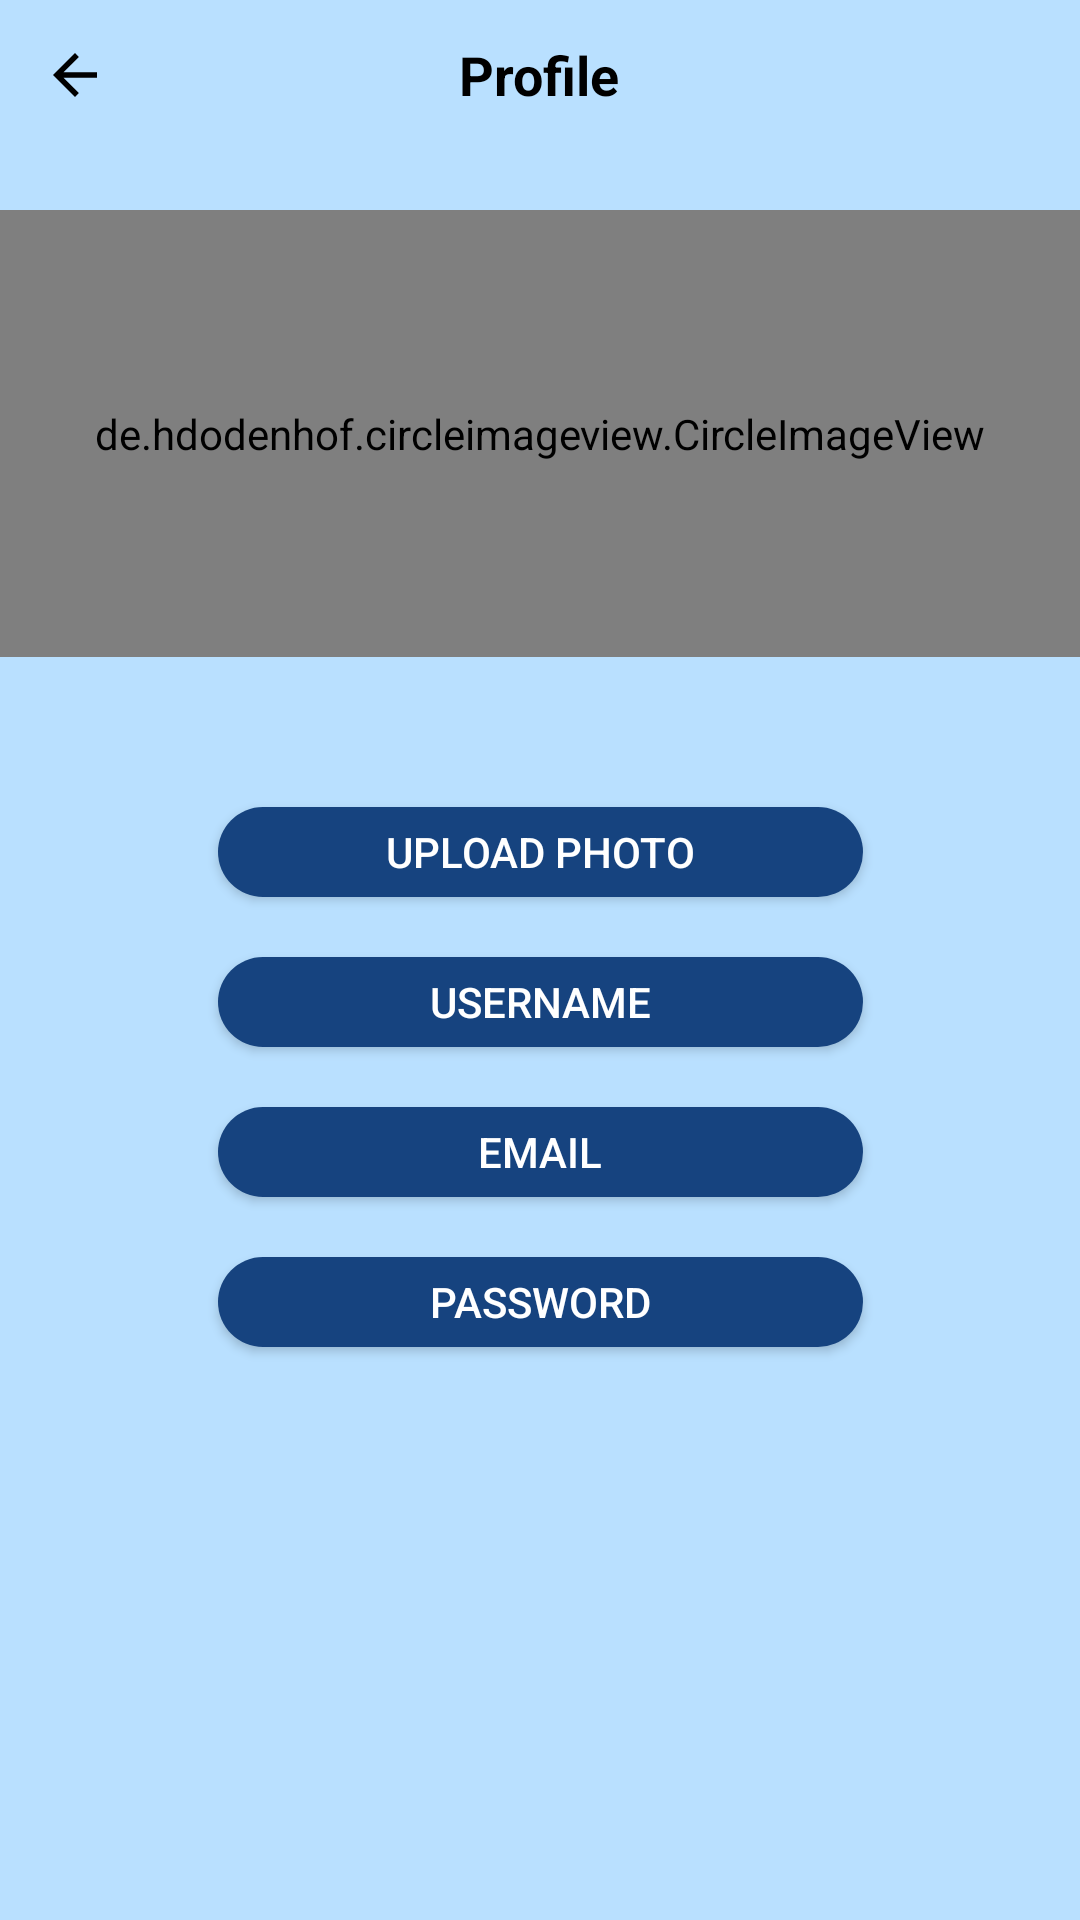

Icon click points for this 1080px×1920px phone screenshot, format (x=x, y=y):
back: (x=75, y=75)
